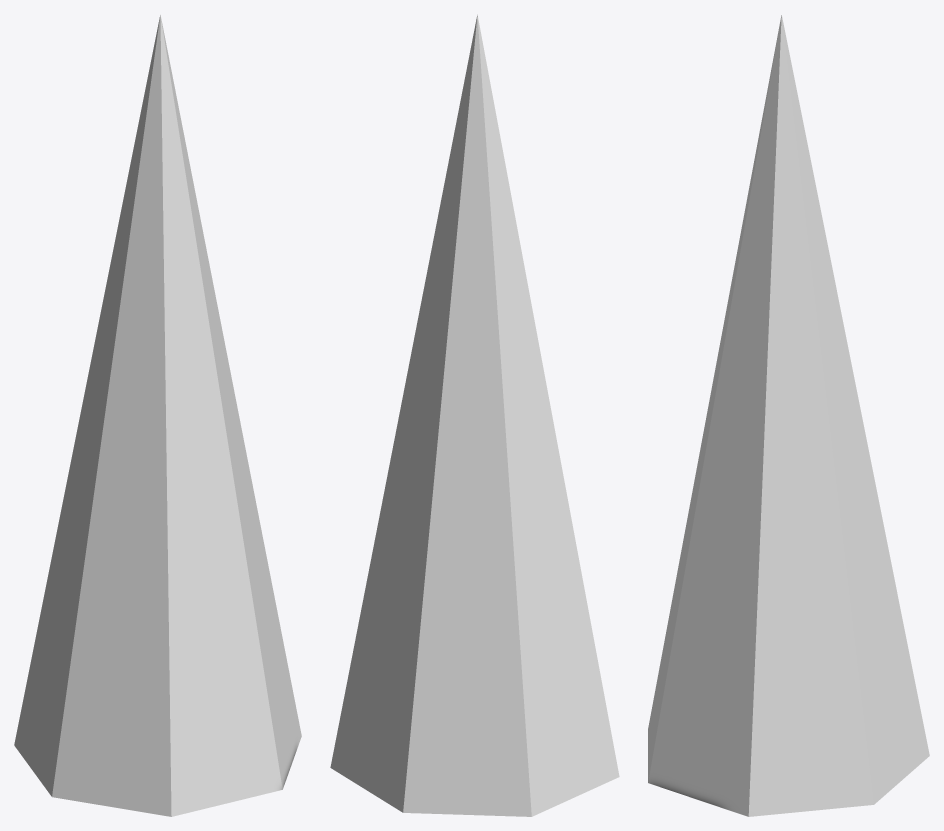
File: SunRayMesh.fbx
3 views of the same model, side by side, from view 1: azimuth 30°, elevation 25°; view 2: azimuth 150°, elevation 25°; view 3: azimuth 270°, elevation 25° (orthographic).
Parts seen in each view (by area): view 1: SunRayMesh; view 2: SunRayMesh; view 3: SunRayMesh.
Boxes of the visible parts, <box> form: SunRayMesh: <box>14,14,301,816</box>; SunRayMesh: <box>330,14,619,816</box>; SunRayMesh: <box>648,15,929,816</box>.
Bounding box in the file's own units: 1.95 × 5.52 × 1.9.
1 material, 1 textured.
